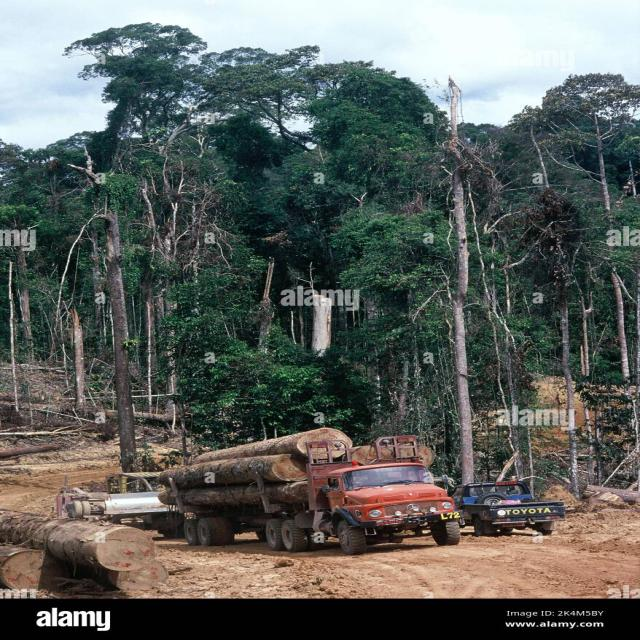Truck: (184, 433, 460, 565)
